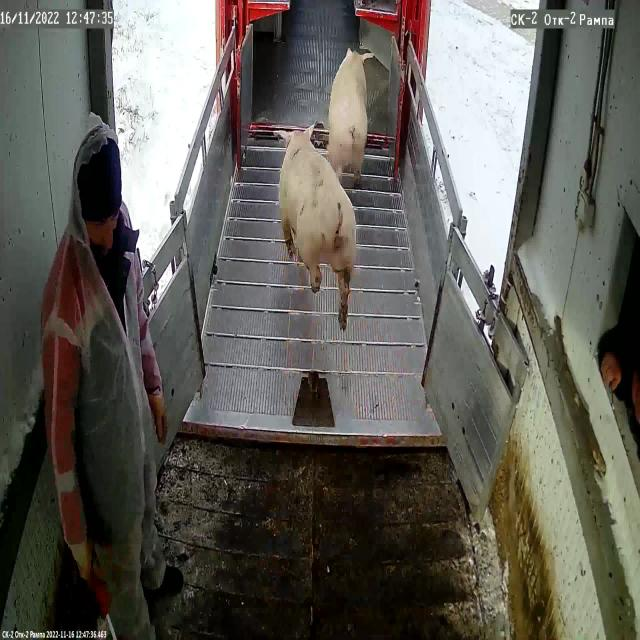pig: (273, 123, 356, 331), (326, 48, 374, 176)
